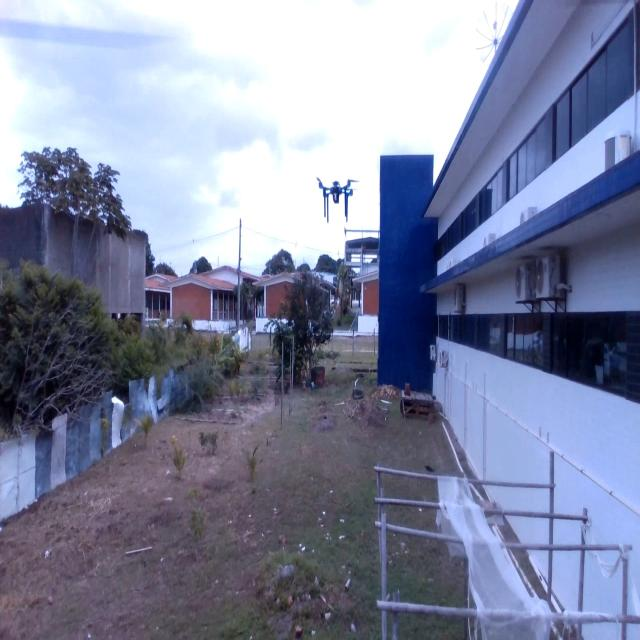-uav-: (309, 166, 363, 227)
